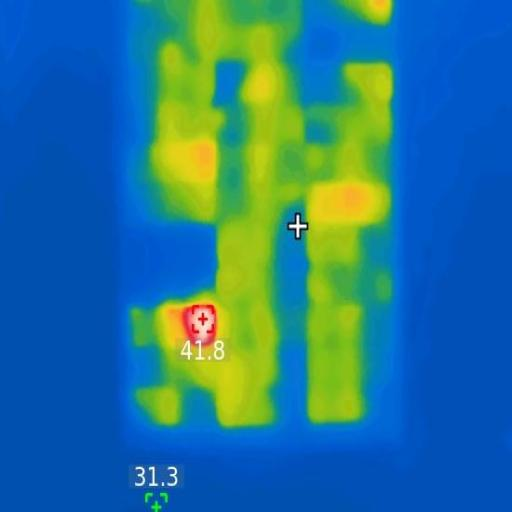hotspot: (185, 303, 219, 349)
